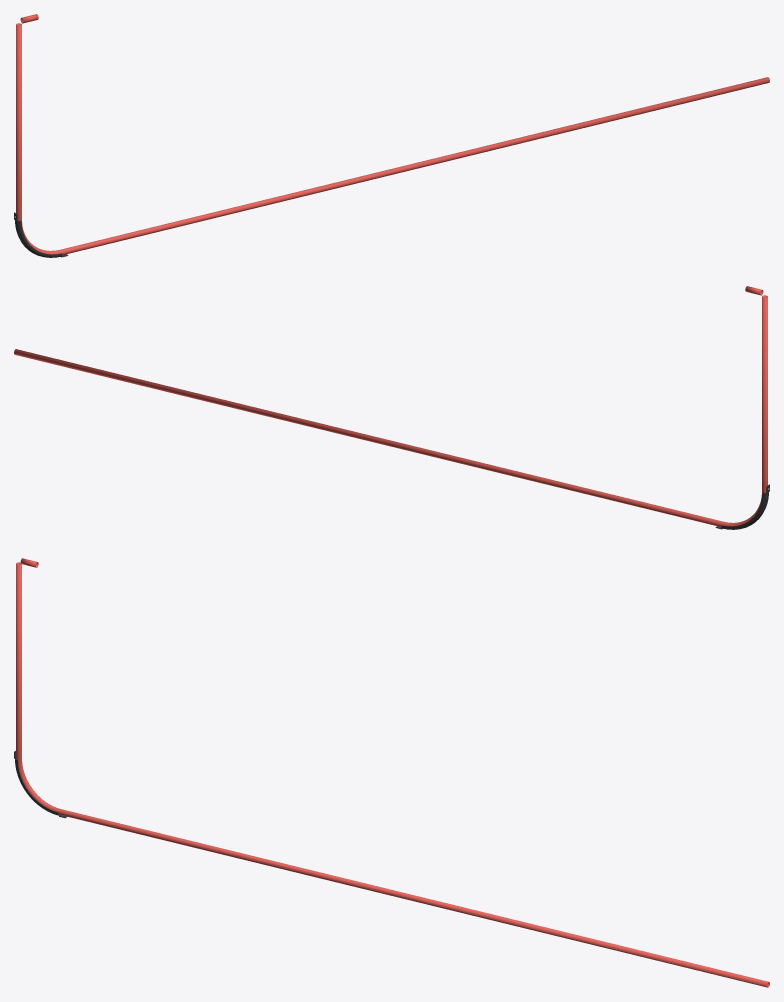
Rendered from slab_pipes_supply__plumbing__0a079756.glb.
The picture shows the model from 3 angles, top to bottom: view 1: azimuth 30°, elevation 25°; view 2: azimuth 150°, elevation 25°; view 3: azimuth 330°, elevation 25°; orthographic projection.
Visible parts, largest first — view 1: pipe_supply_branch_tb_hallbath_vanity_hot; view 2: pipe_supply_branch_tb_hallbath_vanity_hot; view 3: pipe_supply_branch_tb_hallbath_vanity_hot.
Boxes of the visible parts, x1,y1,x2,y2 form: pipe_supply_branch_tb_hallbath_vanity_hot: (16,14,769,255); pipe_supply_branch_tb_hallbath_vanity_hot: (14,286,767,527); pipe_supply_branch_tb_hallbath_vanity_hot: (16,558,769,987).
Size of the model in its own units: 2.31 by 0.7284 by 0.0216.
